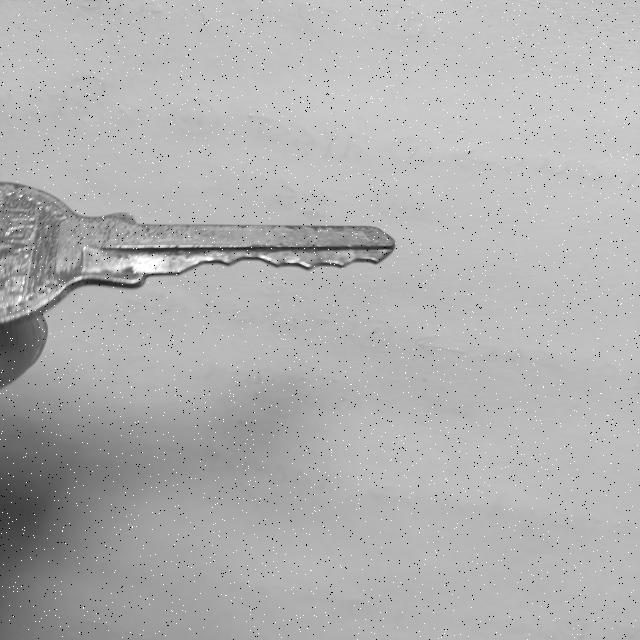key: (0, 182, 394, 325)
